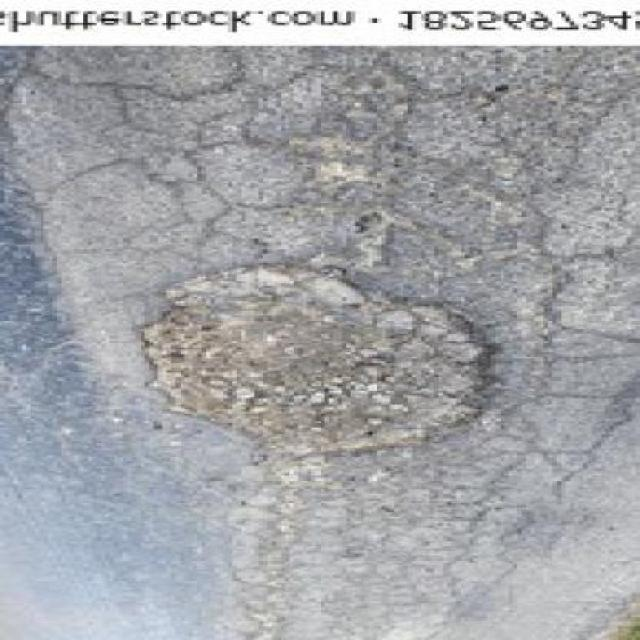Pothole: (134, 255, 506, 511)
